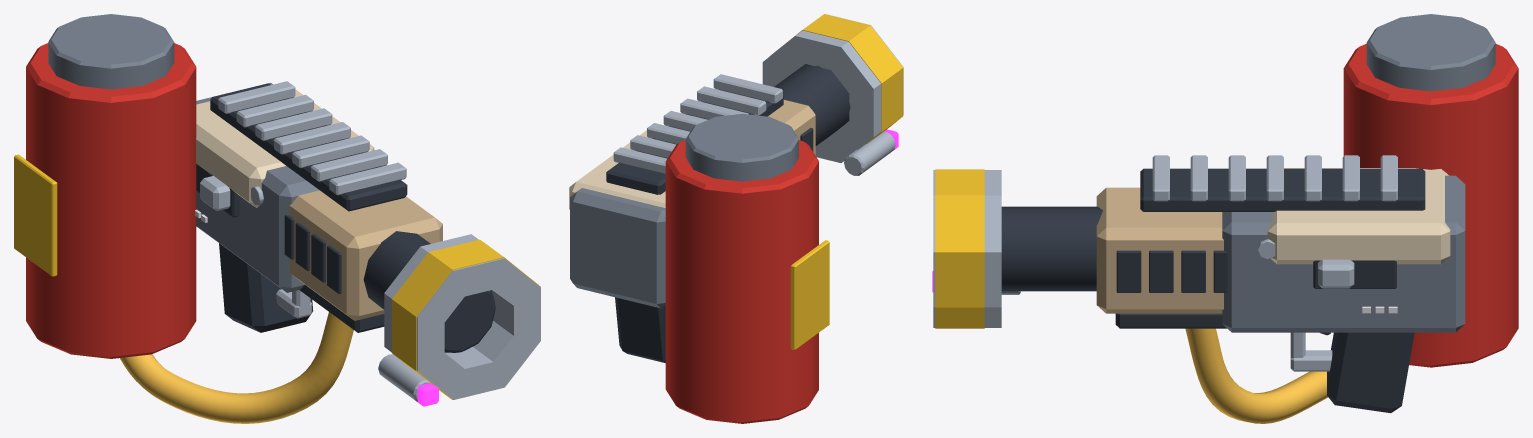
File: Military_FL_v001.fbx
3 renders of one model, left to right at view 1: azimuth 30°, elevation 25°; view 2: azimuth 150°, elevation 25°; view 3: azimuth 270°, elevation 25°, orthographic. The views are drawn at different scales.
Parts seen in each view (by area): view 1: Military_FL__RECEIVER_MESH; view 2: Military_FL__RECEIVER_MESH; view 3: Military_FL__RECEIVER_MESH.
Part boxes in pixels (x1,y1,x2,y2): Military_FL__RECEIVER_MESH: (14, 14, 540, 423); Military_FL__RECEIVER_MESH: (569, 14, 903, 423); Military_FL__RECEIVER_MESH: (932, 14, 1518, 423).
Size of the model in its own units: 0.8715 by 1.02 by 1.54.
